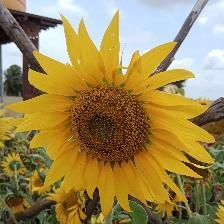sunflower: (7, 8, 219, 217)
